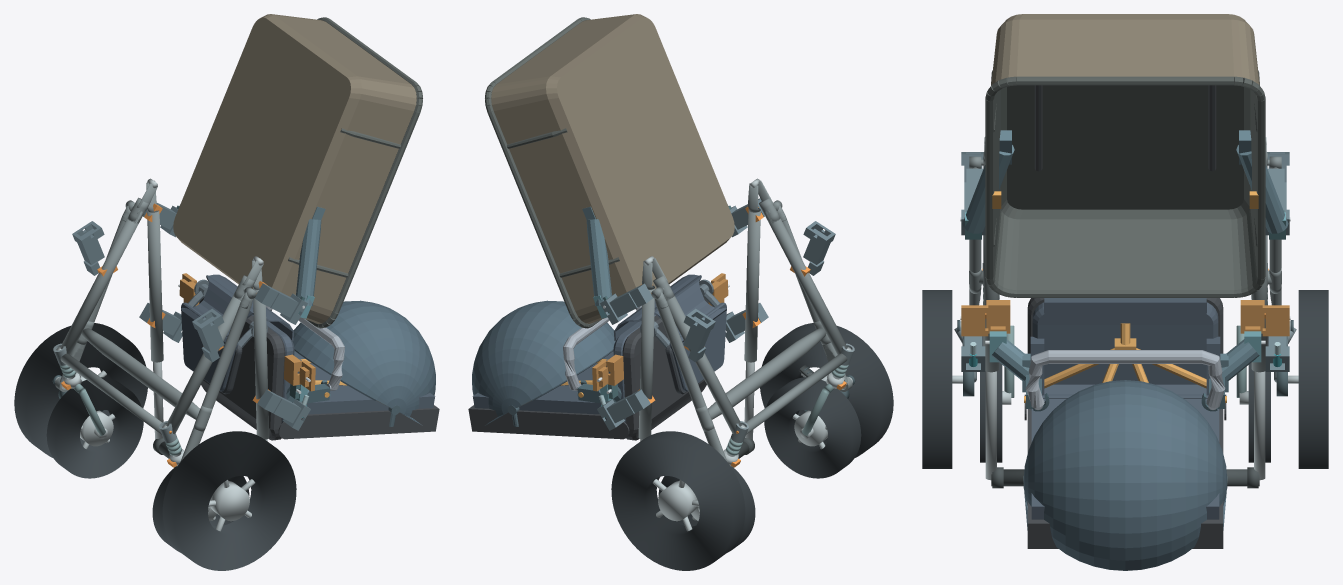
The model's file is D17_w650_state3_wheel_L.glb.
3 renders of one model, left to right at view 1: azimuth 30°, elevation 25°; view 2: azimuth 150°, elevation 25°; view 3: azimuth 270°, elevation 25°, orthographic. The views are drawn at different scales.
Parts seen in each view (by area): view 1: D17_Lower, D17_Upper, RL_tire.008, FR_tire.008, RR_tire.008, V46_rearbar.009, main_upper_1.009, main_lower_1.009, D17_Lower_Mount_M, V46_rear_leg_-1.009, main_upper_-1.009, main_lower_-1.009 (+11 smaller); view 2: D17_Lower, D17_Upper, RR_tire.008, FL_tire.008, RL_tire.008, V46_rearbar.009, main_upper_-1.009, main_lower_-1.009, D17_Lower_Mount_M, V46_rear_leg_1.009, main_upper_1.009, main_lower_1.009 (+11 smaller); view 3: D17_Lower, D17_Upper, RL_tire.008, RR_tire.008, D17_Lower_Mount_M, D17_Upper_Mount_H, D02_WideAdapter_H_-1, D02_WideAdapter_H_1, handle_slider_1.008, handle_slider_-1.008, FL_tire.008, FR_tire.008 (+9 smaller).
Part boxes in pixels (box(x1,y1,x2,y2)): D17_Lower: box(173, 14, 422, 328); D17_Upper: box(181, 274, 439, 440); RL_tire.008: box(162, 431, 296, 570); FR_tire.008: box(46, 377, 143, 478); RR_tire.008: box(14, 323, 147, 457); V46_rearbar.009: box(81, 328, 199, 419); main_upper_1.009: box(147, 210, 163, 362); main_lower_1.009: box(60, 211, 142, 354); D17_Lower_Mount_M: box(176, 204, 325, 318); V46_rear_leg_-1.009: box(180, 298, 252, 461); main_upper_-1.009: box(253, 288, 269, 439); main_lower_-1.009: box(166, 294, 244, 434); D17_Lower: box(485, 14, 734, 328); D17_Upper: box(468, 274, 726, 440); RR_tire.008: box(611, 431, 745, 570); FL_tire.008: box(764, 377, 861, 478); RL_tire.008: box(760, 323, 893, 457); V46_rearbar.009: box(708, 328, 826, 419); main_upper_-1.009: box(744, 209, 760, 362); main_lower_-1.009: box(765, 211, 847, 354); D17_Lower_Mount_M: box(582, 204, 731, 318); V46_rear_leg_1.009: box(655, 298, 727, 461); main_upper_1.009: box(638, 288, 654, 439); main_lower_1.009: box(663, 294, 741, 434); D17_Lower: box(985, 14, 1265, 297); D17_Upper: box(1023, 298, 1227, 570); RL_tire.008: box(922, 290, 952, 468); RR_tire.008: box(1298, 290, 1328, 468); D17_Lower_Mount_M: box(960, 130, 1290, 239); D17_Upper_Mount_H: box(985, 331, 1265, 392); D02_WideAdapter_H_-1: box(960, 300, 1010, 336); D02_WideAdapter_H_1: box(1240, 300, 1290, 336); handle_slider_1.008: box(1254, 371, 1265, 480); handle_slider_-1.008: box(985, 371, 996, 480); FL_tire.008: box(980, 336, 1002, 462); FR_tire.008: box(1248, 336, 1270, 462).
Bounding box in the file's own units: 0.9751 × 1.2 × 0.8171.
